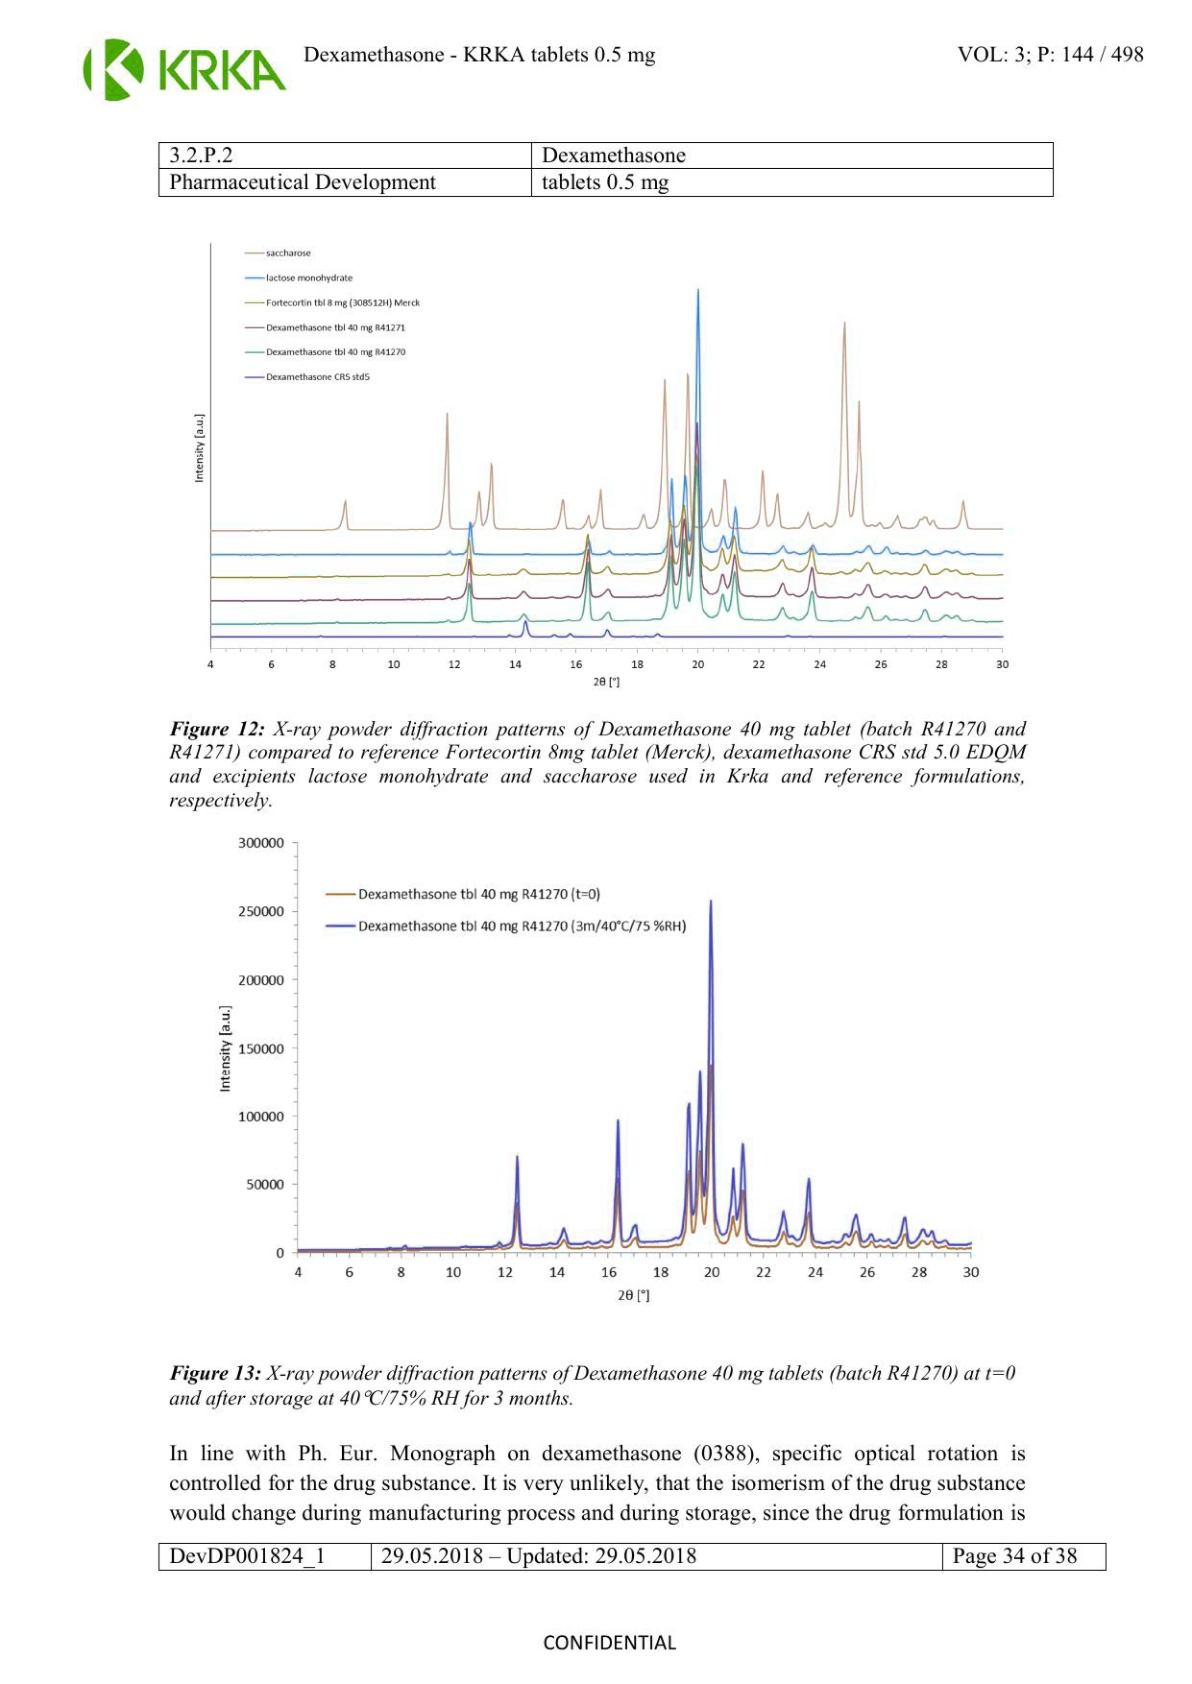full_lined: (157, 141, 1055, 197), (157, 1542, 1107, 1572)
